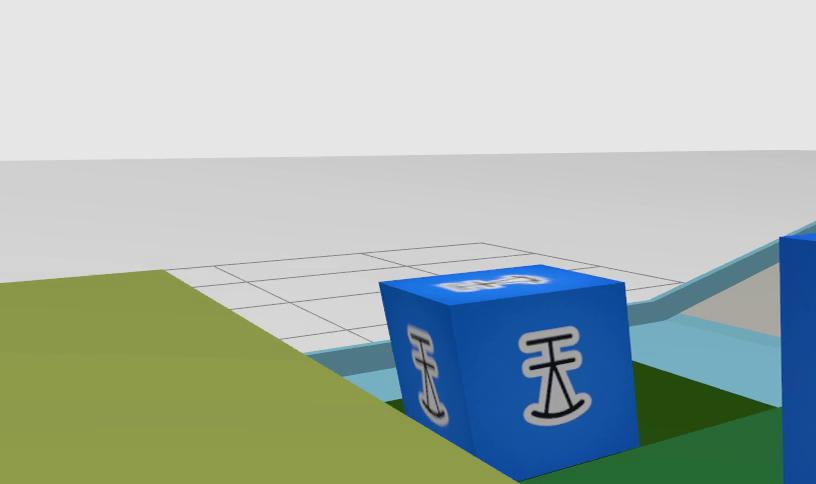KFS_REAL: (383, 261, 640, 476), (782, 235, 816, 484), (519, 327, 590, 425)
